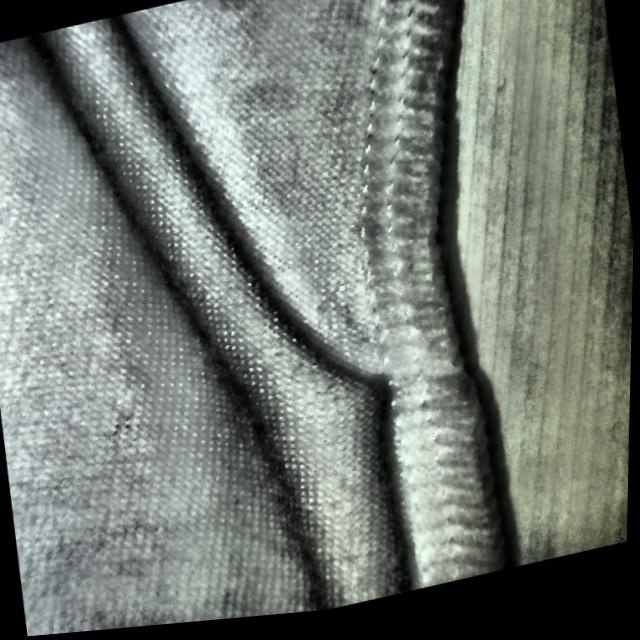seam: (237, 285, 511, 546)
